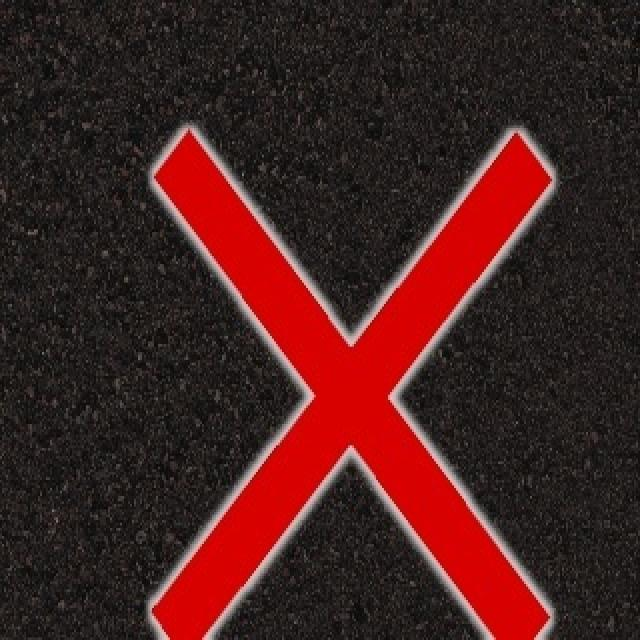x_marker: (151, 129, 551, 639)
